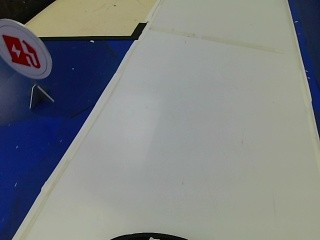battery: (0, 17, 56, 80)
